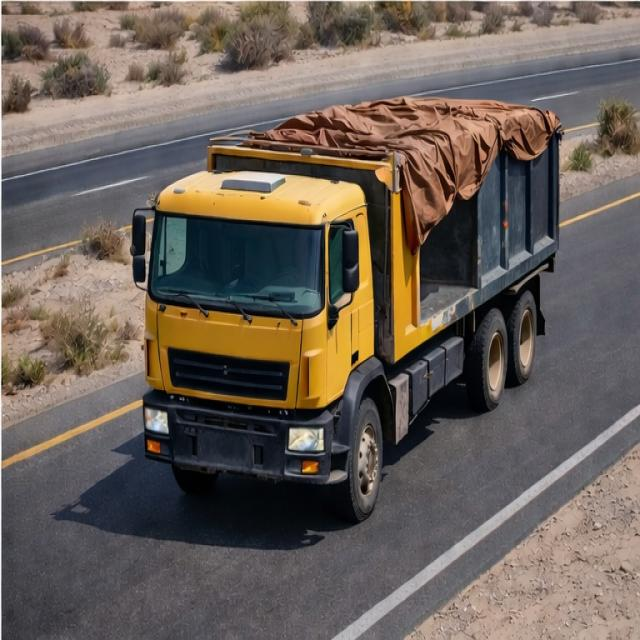trailer: (209, 90, 557, 178)
truck: (128, 77, 584, 517)
